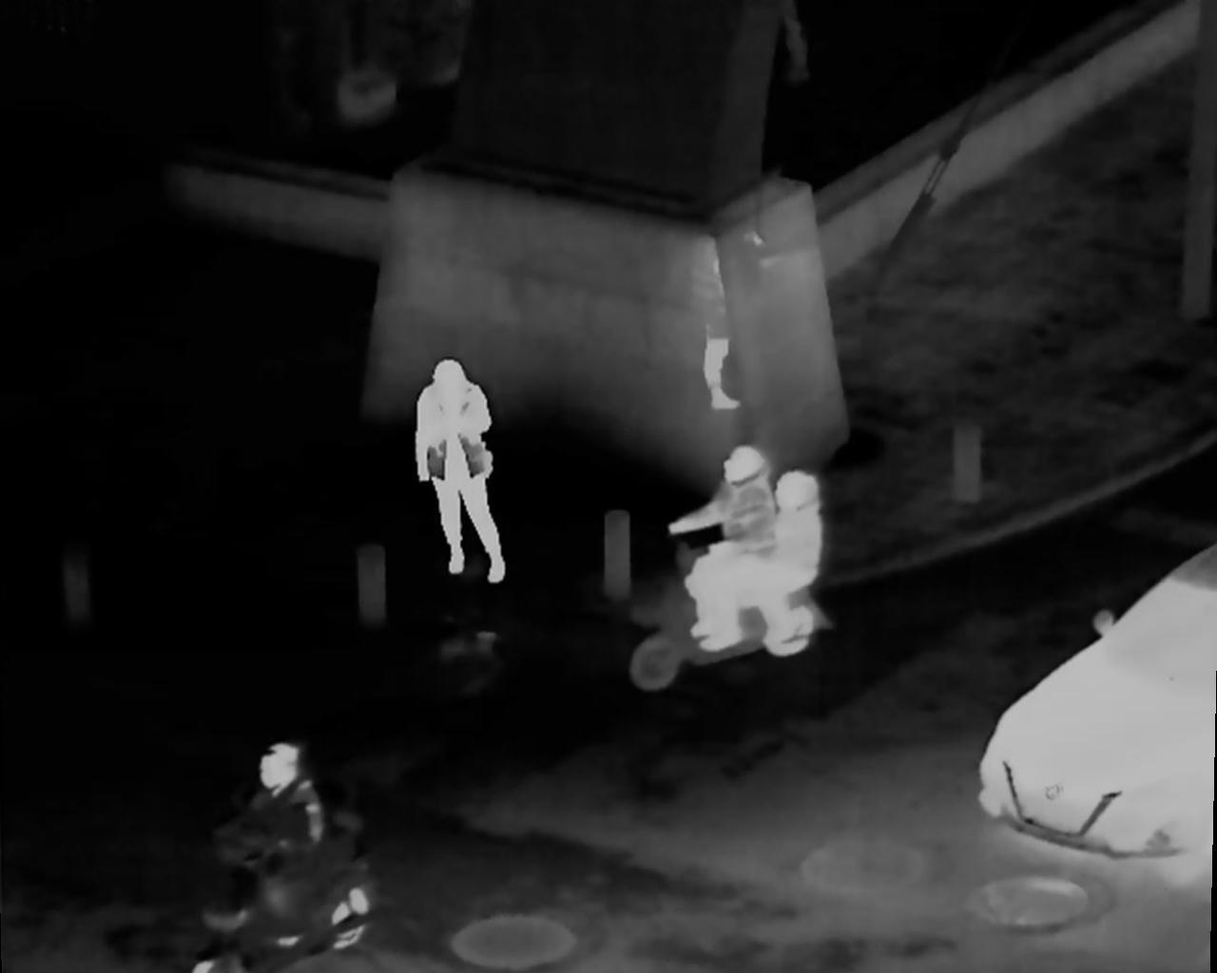person: (415, 354, 509, 582), (725, 471, 825, 673), (251, 735, 336, 950), (691, 448, 772, 655)
